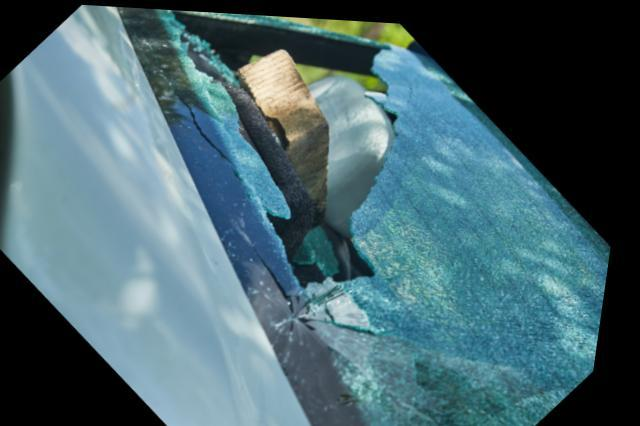glass shatter: (118, 6, 617, 426)
